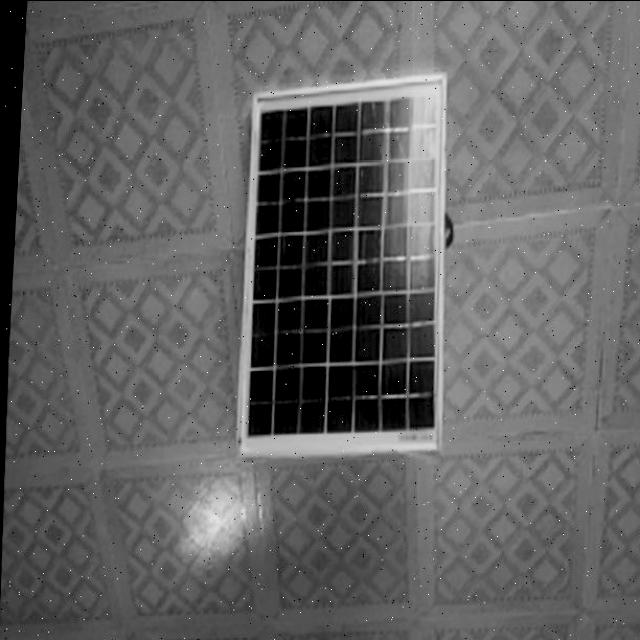Normal Solar Panel: (229, 76, 454, 458)
